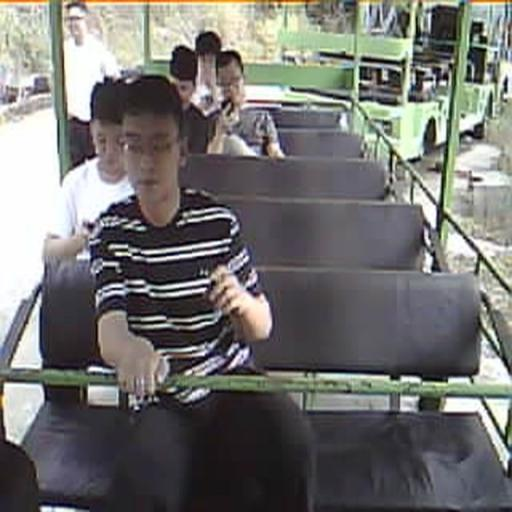persona: (88, 72, 316, 511), (42, 74, 138, 266), (213, 49, 286, 158), (165, 45, 209, 152), (190, 30, 222, 117)
